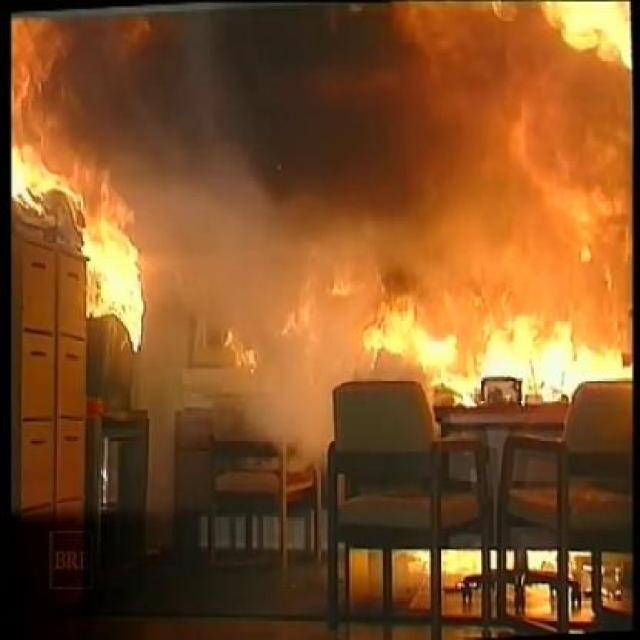fire: (366, 267, 616, 407), (61, 132, 164, 363), (12, 16, 77, 210)
smoke: (178, 77, 298, 311), (207, 252, 336, 446)
